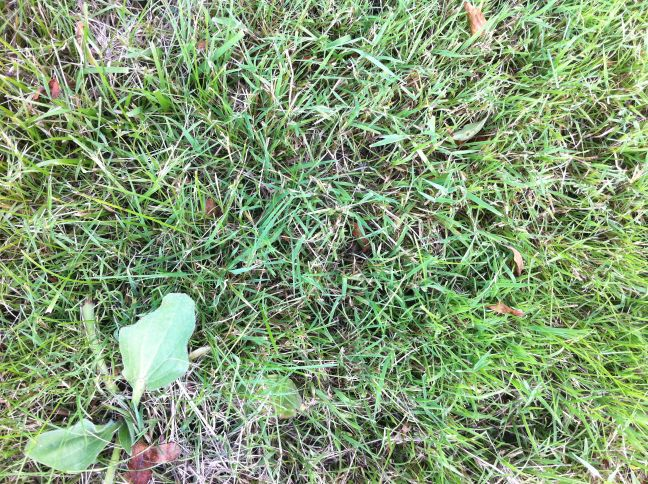weed1: (23, 291, 199, 484)
